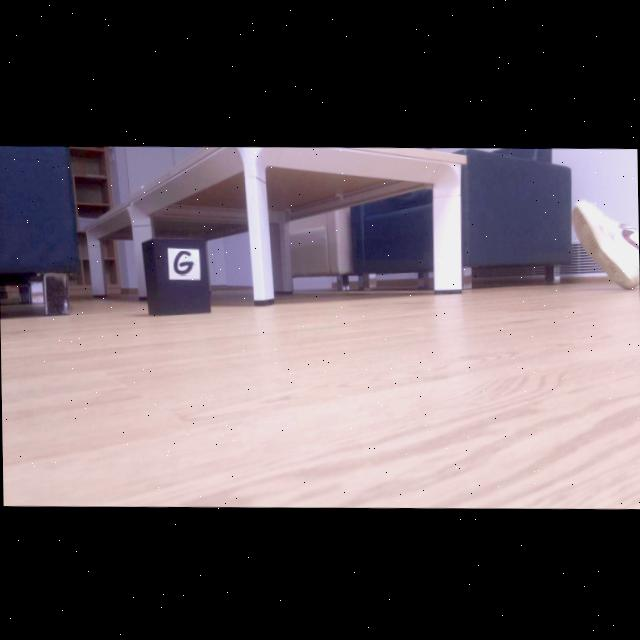G: (174, 250, 194, 274)
